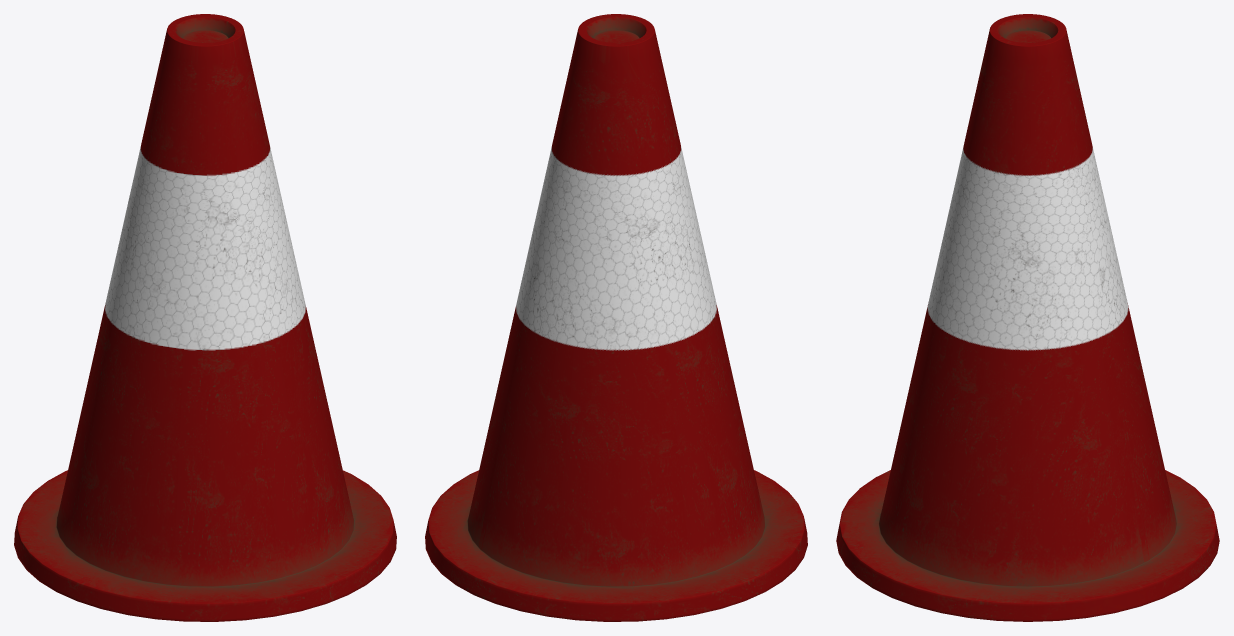
File: Traffic_Cone.fbx
3 renders of one model, left to right at view 1: azimuth 30°, elevation 25°; view 2: azimuth 150°, elevation 25°; view 3: azimuth 270°, elevation 25°, orthographic.
Visible parts, largest first — view 1: Traffic_cone; view 2: Traffic_cone; view 3: Traffic_cone.
Part boxes in pixels (left/top/right/bottom): Traffic_cone: left=14, top=14, right=396, bottom=621; Traffic_cone: left=425, top=14, right=807, bottom=621; Traffic_cone: left=836, top=14, right=1219, bottom=621.
Bounding box in the file's own units: 0.5599 × 0.8232 × 0.5599.
Materials: 1 (1 with a texture image).
